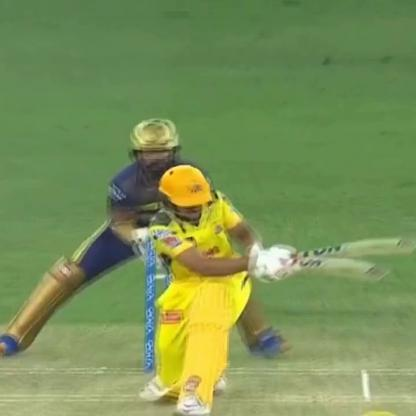bat: (249, 240, 416, 283)
